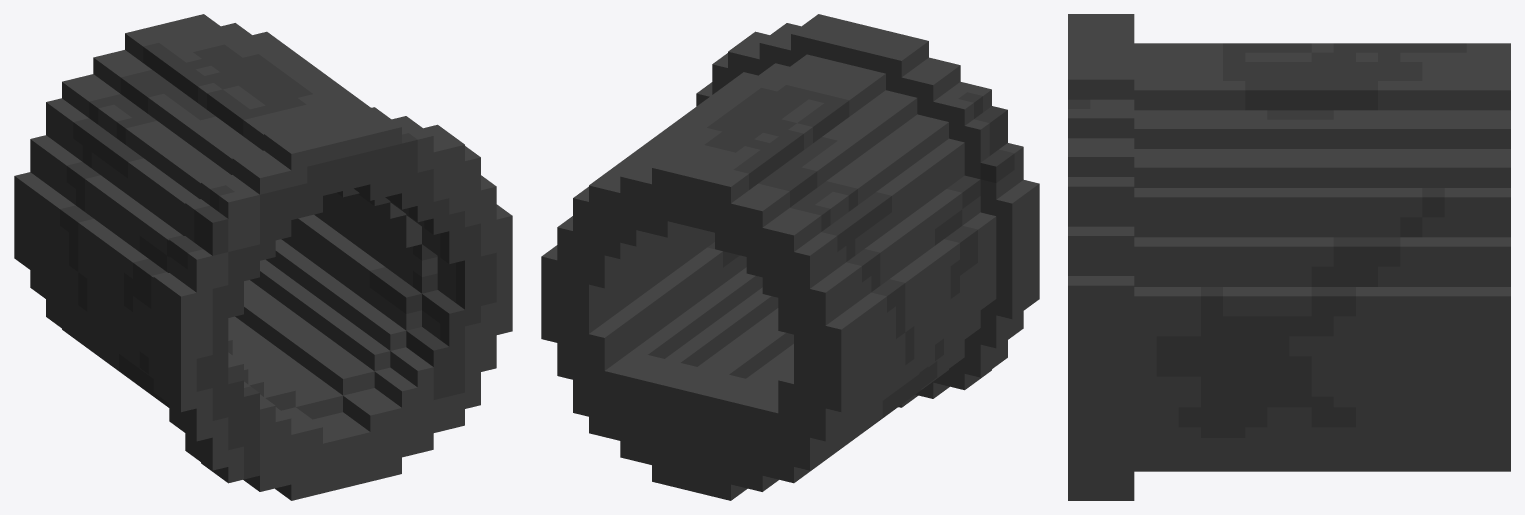
The model's file is TrybaBez.obj.
3 renders of one model, left to right at view 1: azimuth 30°, elevation 25°; view 2: azimuth 150°, elevation 25°; view 3: azimuth 270°, elevation 25°, orthographic. The views are drawn at different scales.
Size of the model in its own units: 2.1 by 2.1 by 2.
1 material, 1 textured.
